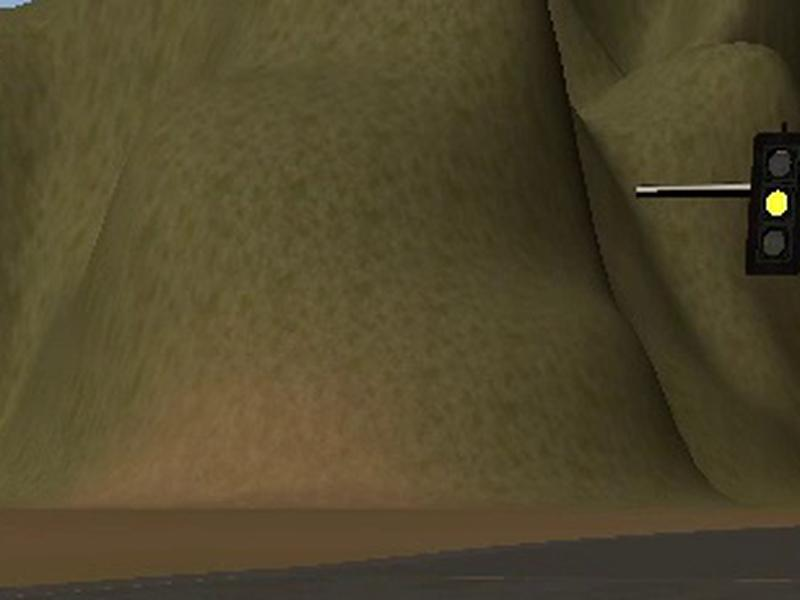Yellow: (744, 131, 800, 276)
